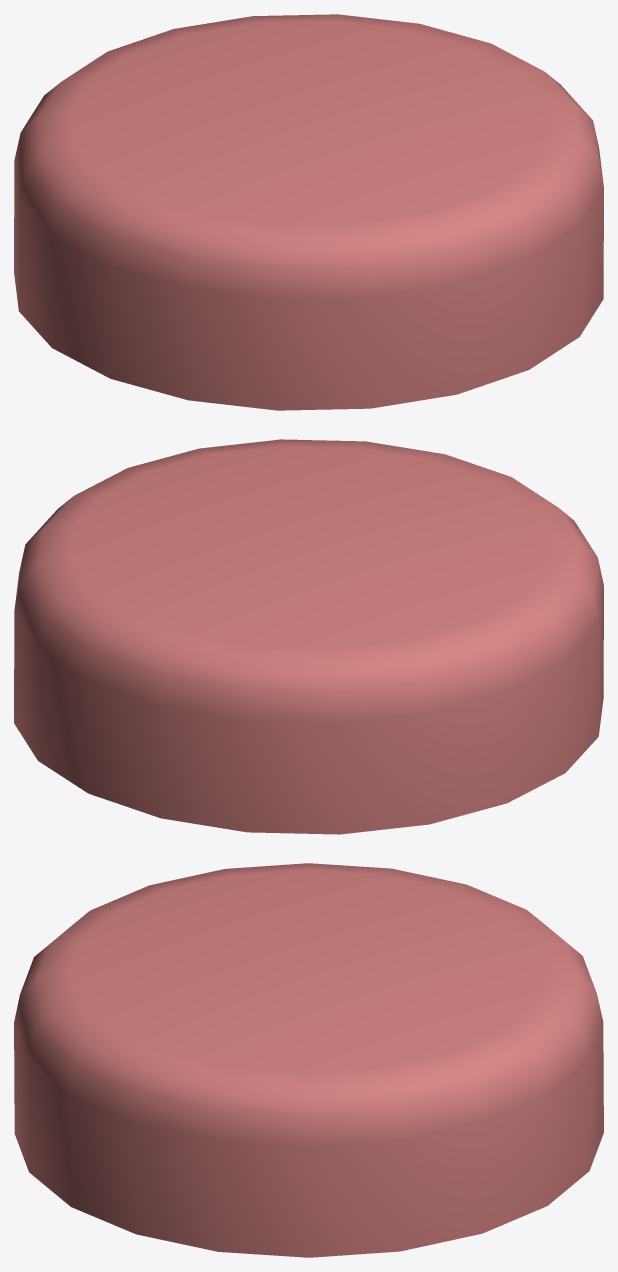
The model's file is toybox_beanbag_button_01_prefab.fbx.
3 views of the same model, one above another, from view 1: azimuth 30°, elevation 25°; view 2: azimuth 150°, elevation 25°; view 3: azimuth 270°, elevation 25° (orthographic).
Visible parts, largest first — view 1: button_01; view 2: button_01; view 3: button_01.
Boxes of the visible parts, left/top/right/bottom form: button_01: left=14, top=14, right=603, bottom=410; button_01: left=14, top=439, right=603, bottom=834; button_01: left=14, top=863, right=603, bottom=1257.
Bounding box in the file's own units: 9.62 × 2.93 × 9.64.
